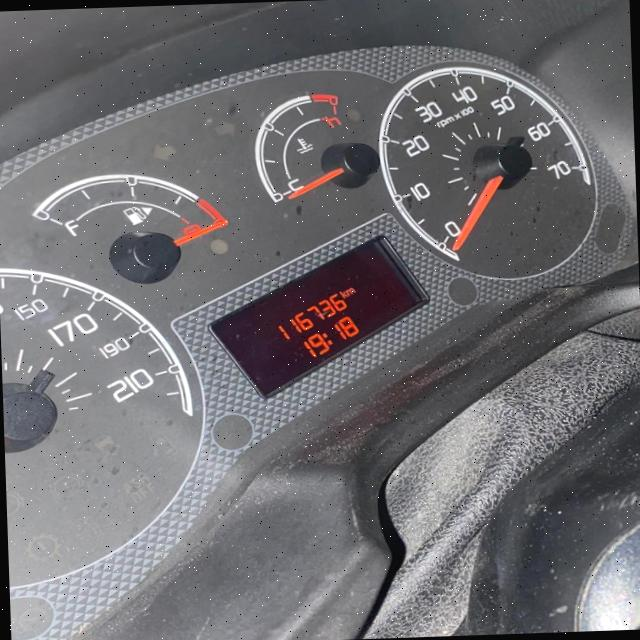odometer: (202, 231, 434, 401)
